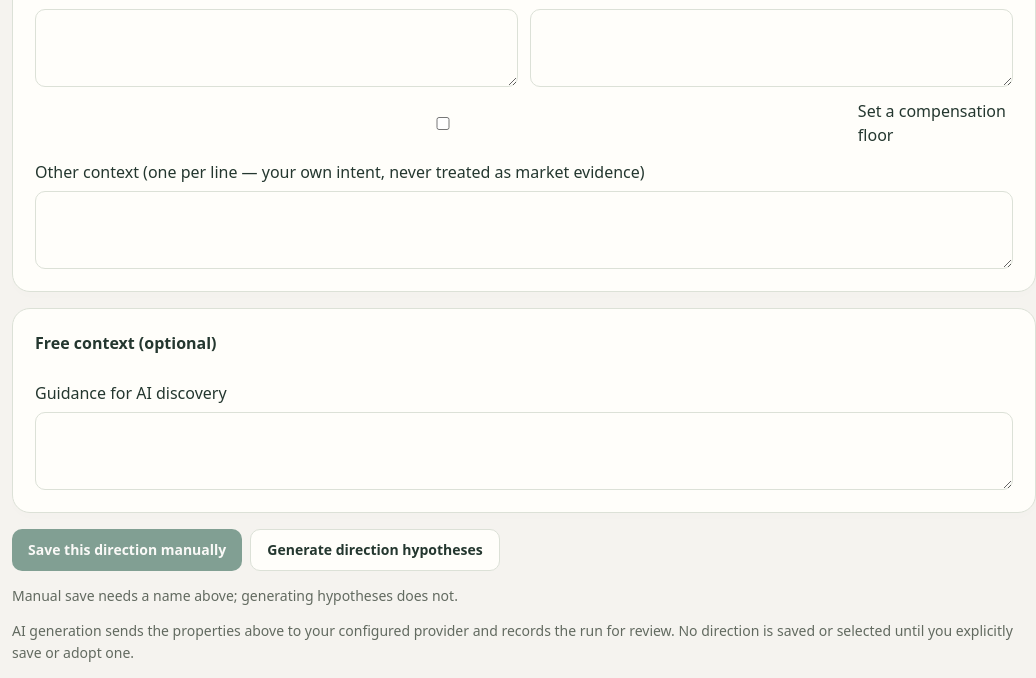
it: Career Direction builder — AI discovery › shows the corpus disclosure alongside generated hypotheses
(page scrolled)
Click the button "Generate direction hypotheses" at (375, 550), box [250,529,500,571]
(page scrolled)
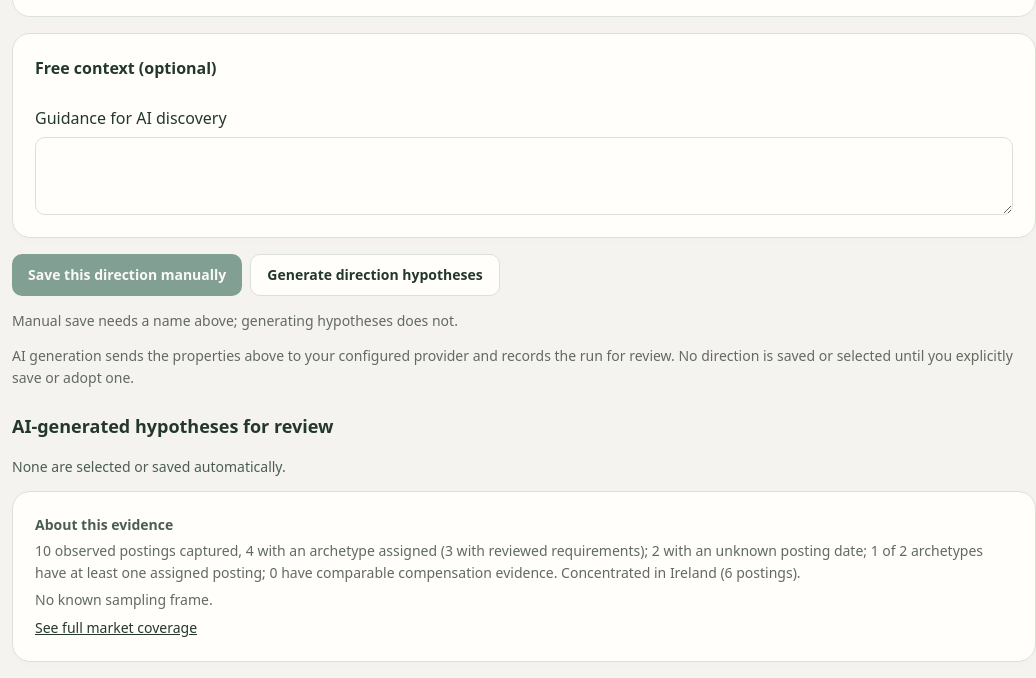
Expected: the text "10 observed postings captured" is shown, [35,541,983,582]
